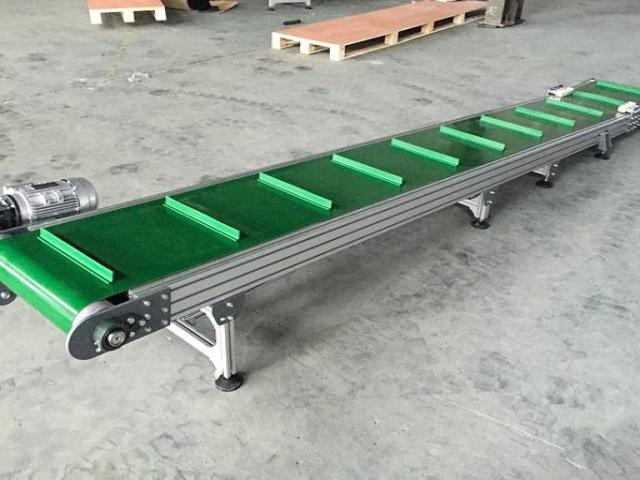conveyor: (0, 74, 639, 392)
